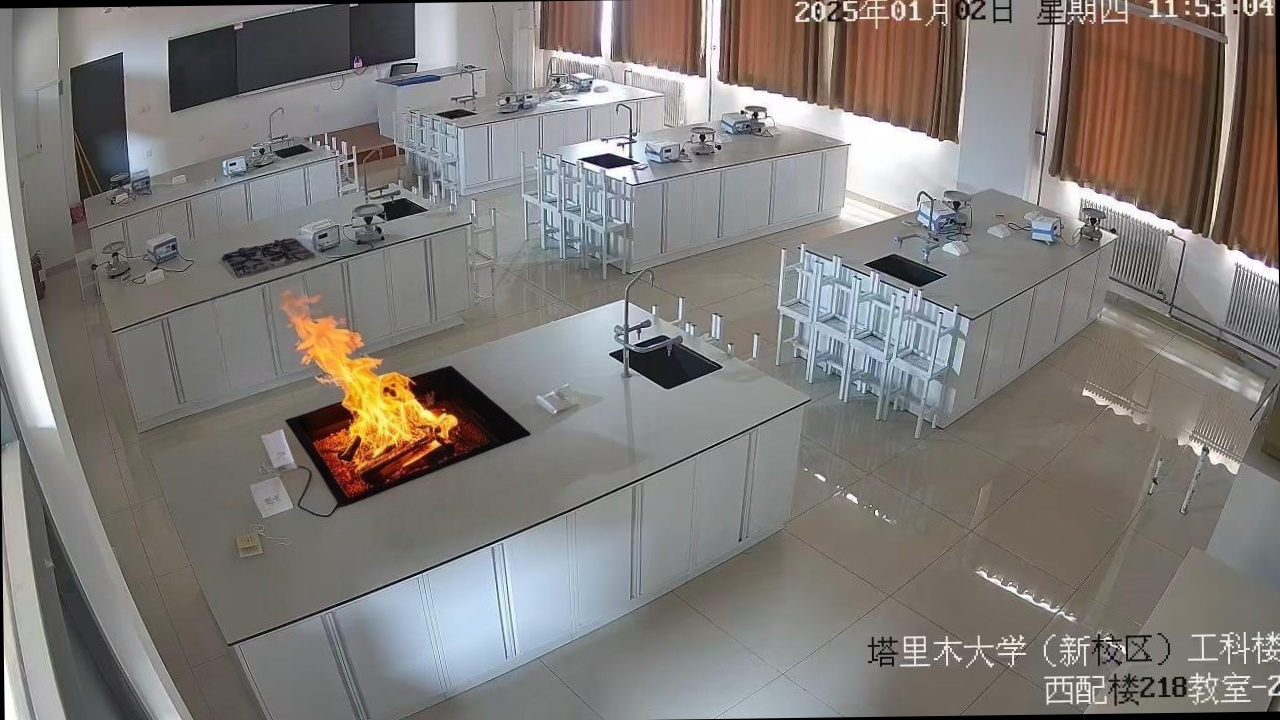fire: (263, 271, 478, 502)
